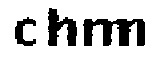c: (12, 16, 37, 48)
h: (45, 6, 80, 50)
m: (82, 17, 123, 50)
n: (123, 15, 149, 52)
